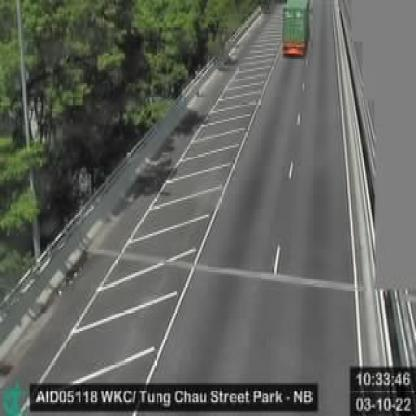Truck: (284, 0, 310, 59)
